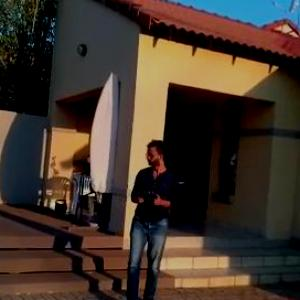follow: (119, 138, 180, 299)
